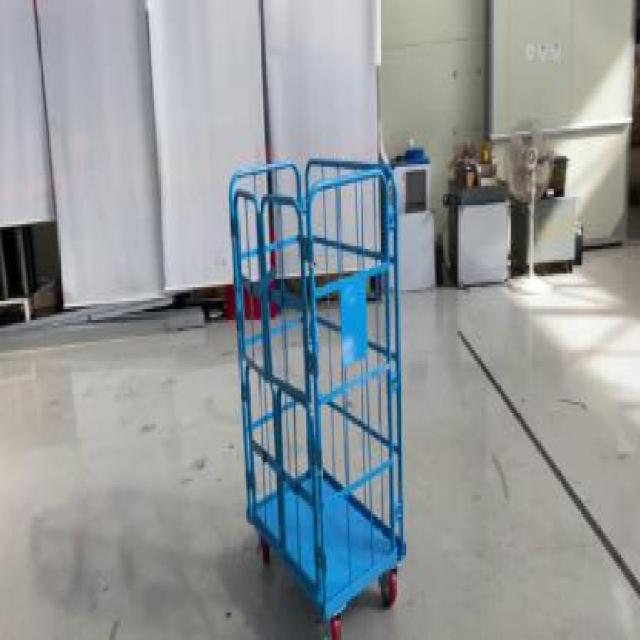cart: (229, 162, 408, 638)
